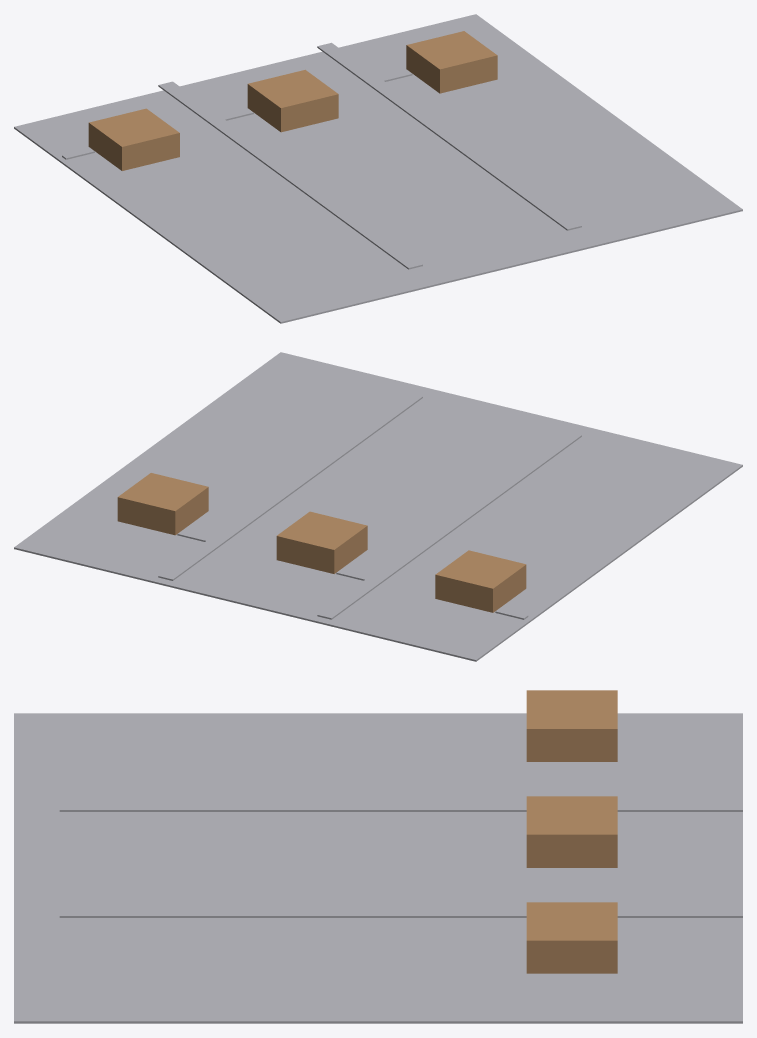
Rendered from city_c00_03.glb.
3 views of the same model, one above another, from view 1: azimuth 30°, elevation 25°; view 2: azimuth 150°, elevation 25°; view 3: azimuth 270°, elevation 25° (orthographic). The views are drawn at different scales.
Parts seen in each view (by area): view 1: terrain_west_proxy__c00_03, building_072__c00_03, building_070__c00_03, building_071__c00_03, road_west_1__c00_03, road_west_0__c00_03; view 2: terrain_west_proxy__c00_03, building_070__c00_03, building_071__c00_03, building_072__c00_03, road_west_1__c00_03, road_west_0__c00_03; view 3: terrain_west_proxy__c00_03, road_west_0__c00_03, road_west_1__c00_03, building_070__c00_03, building_071__c00_03, building_072__c00_03.
Boxes of the visible parts, bbox=[...] form: terrain_west_proxy__c00_03: bbox=[14, 14, 742, 323]; building_072__c00_03: bbox=[88, 108, 179, 170]; building_070__c00_03: bbox=[406, 31, 497, 93]; building_071__c00_03: bbox=[247, 69, 338, 132]; road_west_1__c00_03: bbox=[158, 81, 422, 269]; road_west_0__c00_03: bbox=[317, 42, 581, 230]; terrain_west_proxy__c00_03: bbox=[14, 352, 742, 661]; building_070__c00_03: bbox=[117, 473, 208, 535]; building_071__c00_03: bbox=[276, 511, 367, 573]; building_072__c00_03: bbox=[435, 550, 526, 612]; road_west_1__c00_03: bbox=[317, 431, 581, 619]; road_west_0__c00_03: bbox=[158, 393, 422, 580]; terrain_west_proxy__c00_03: bbox=[14, 713, 742, 1023]; road_west_0__c00_03: bbox=[59, 906, 742, 917]; road_west_1__c00_03: bbox=[59, 800, 742, 811]; building_070__c00_03: bbox=[526, 902, 617, 973]; building_071__c00_03: bbox=[526, 796, 617, 867]; building_072__c00_03: bbox=[526, 690, 617, 761].
Size of the model in its own units: 128 by 8.6 by 128.
